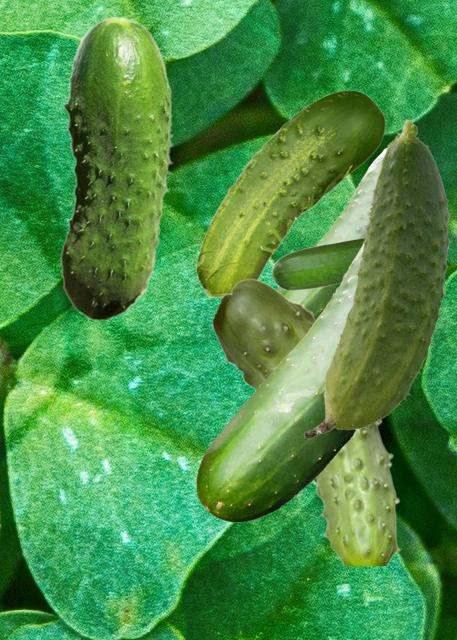cucumber: (211, 278, 400, 564), (304, 119, 450, 437), (196, 244, 362, 521), (195, 90, 384, 298), (60, 15, 173, 320), (277, 148, 385, 317), (271, 237, 364, 290)
